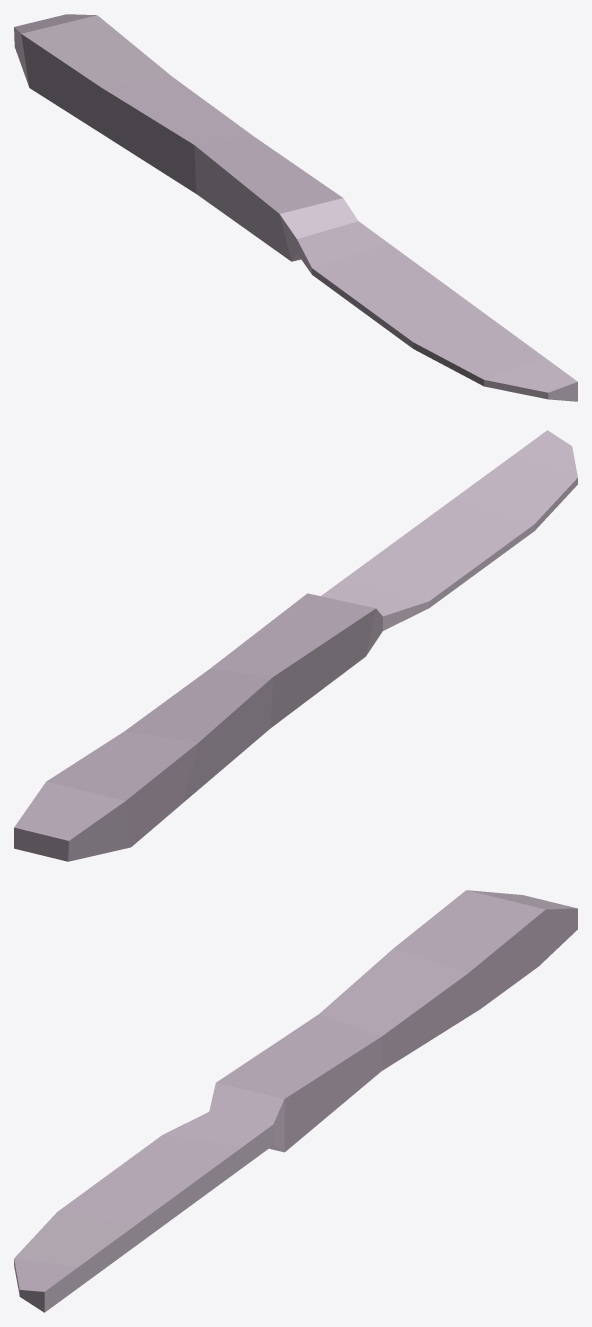
The model's file is SM_Item_Cutlery_Knife_01.fbx.
3 renders of one model, top to bottom at view 1: azimuth 30°, elevation 25°; view 2: azimuth 150°, elevation 25°; view 3: azimuth 330°, elevation 25°, orthographic. The views are drawn at different scales.
Parts seen in each view (by area): view 1: SM_Item_Cutlery_Knife_01; view 2: SM_Item_Cutlery_Knife_01; view 3: SM_Item_Cutlery_Knife_01.
Part boxes in pixels (x1,y1,x2,y2): SM_Item_Cutlery_Knife_01: (14, 14, 577, 401); SM_Item_Cutlery_Knife_01: (14, 430, 577, 861); SM_Item_Cutlery_Knife_01: (14, 890, 577, 1312).
Bounding box in the file's own units: 0.0248 × 0.0155 × 0.2887.
Materials: 1 (1 with a texture image).
